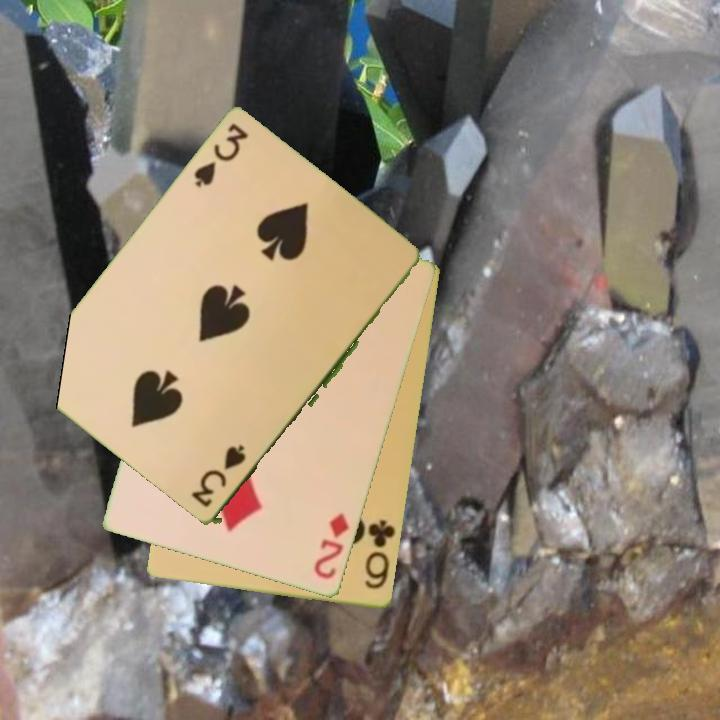2d: (311, 510, 352, 583)
3s: (190, 120, 252, 192), (191, 441, 249, 511)
6c: (361, 516, 399, 593)
